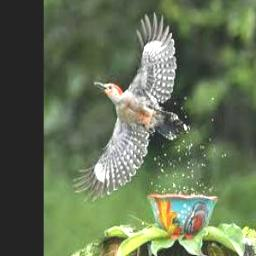Woodpecker: (73, 13, 185, 199)
